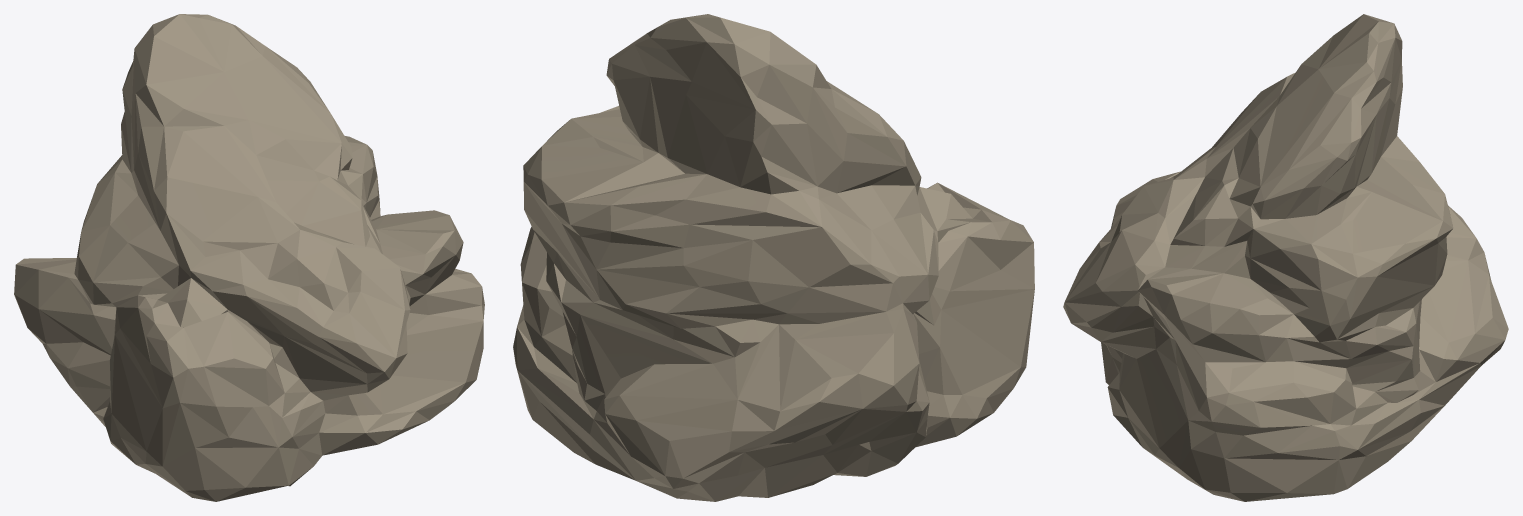
The model's file is SM_Rock_Cluster_Large_01.glb.
3 renders of one model, left to right at view 1: azimuth 30°, elevation 25°; view 2: azimuth 150°, elevation 25°; view 3: azimuth 270°, elevation 25°, orthographic. The views are drawn at different scales.
Parts seen in each view (by area): view 1: SM_Rock_Cluster_Large_01; view 2: SM_Rock_Cluster_Large_01; view 3: SM_Rock_Cluster_Large_01.
Part boxes in pixels (x1=…): SM_Rock_Cluster_Large_01: x1=14, y1=14, x2=484, y2=501; SM_Rock_Cluster_Large_01: x1=513, y1=14, x2=1034, y2=501; SM_Rock_Cluster_Large_01: x1=1063, y1=14, x2=1508, y2=501.
Bounding box in the file's own units: 13.51 × 13.11 × 13.64.
1 material, 1 textured.
